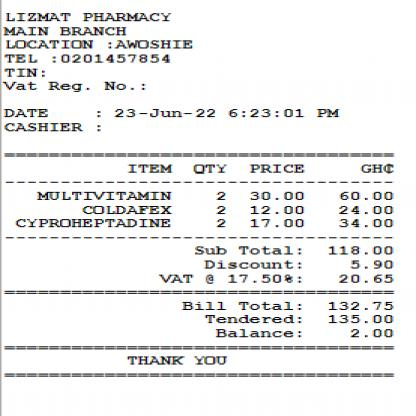receipts: (4, 6, 416, 416)
